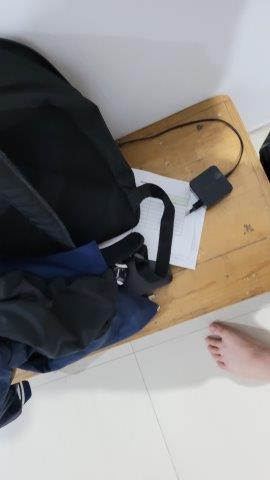kertas: (111, 162, 207, 268)
